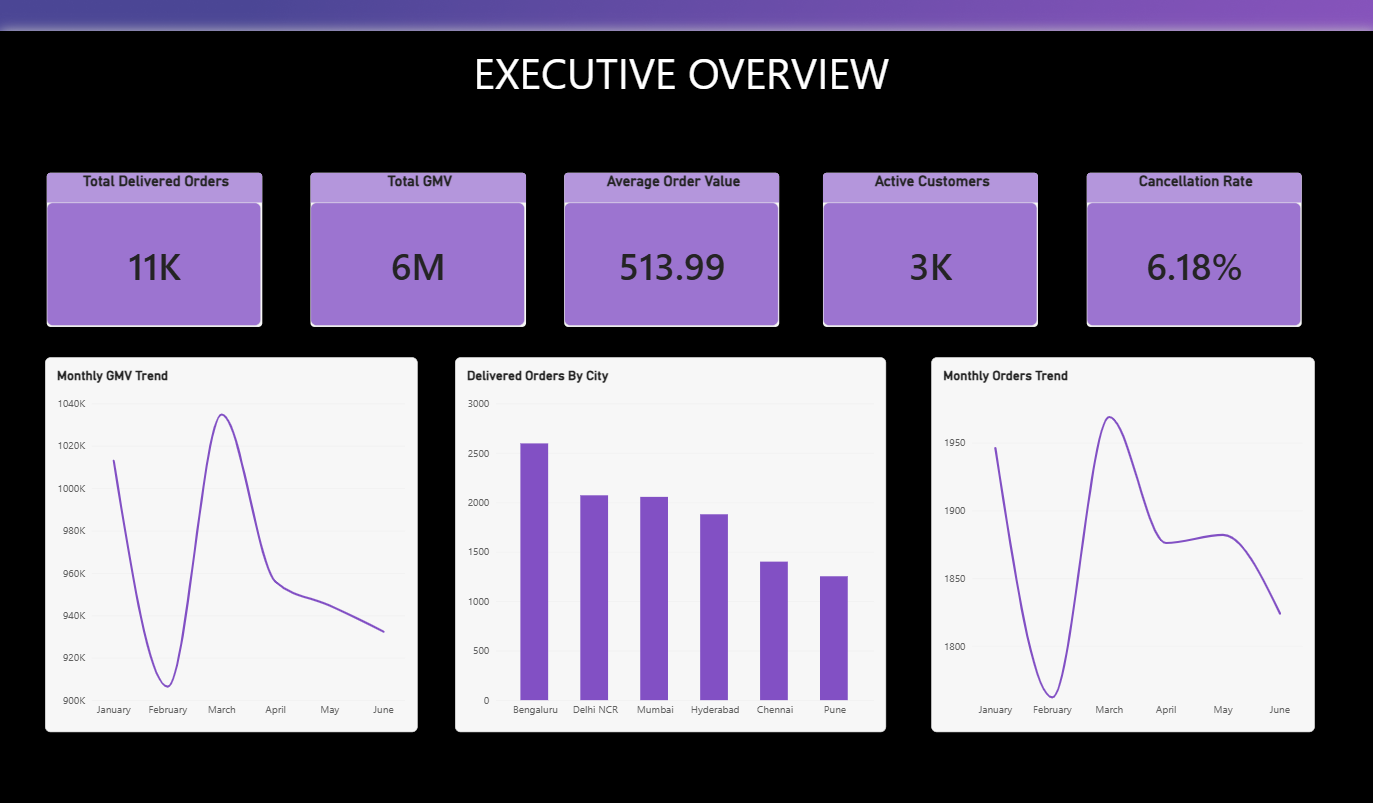

Layout of this report page (visuals, bound fields, positions):
{"tool":"powerbi","page":{"name":"Page 1","canvas":[1920,1080],"ordinal":0},"visuals":[{"type":"textbox","box":[638.4,17.4,624.4,90.7],"z":0},{"type":"cardVisual","title":"Total Delivered Orders","fields":{"Data":["orders.Delivered Orders"]},"box":[62.8,195.3,305.2,219.8],"z":1000},{"type":"cardVisual","title":"Total GMV","fields":{"Data":["orders.Delivered GMV"]},"box":[430.8,195.3,305.2,219.8],"z":2000},{"type":"cardVisual","title":"Average Order Value","fields":{"Data":["orders.AOV"]},"box":[784.9,195.3,305,220],"z":3000},{"type":"cardVisual","title":"Active Customers","fields":{"Data":["orders.Delivered Customers"]},"box":[1145.9,195.3,305,220],"z":4000},{"type":"cardVisual","title":"Cancellation Rate","fields":{"Data":["monthly_kpis.Cancellation Rate"]},"box":[1514,195.3,305,220],"z":5000},{"type":"lineChart","title":"Monthly GMV Trend","fields":{"Category":["orders.month.Variation.Date Hierarchy.Month"],"Y":["orders.Delivered GMV"]},"box":[62.8,455.2,519.8,523.3],"z":6000},{"type":"clusteredColumnChart","title":"Delivered Orders By City","fields":{"Category":["orders.city"],"Y":["orders.Delivered Orders"]},"box":[634.9,455.2,601.7,523.3],"z":7000},{"type":"lineChart","title":"Monthly  Orders Trend","fields":{"Category":["orders.month.Variation.Date Hierarchy.Month"],"Y":["orders.Delivered Orders"]},"box":[1299.4,455.2,535.5,523.3],"z":8000}]}

Visuals, with their boxes in screenshot pixels (x1, y1, x2, y2):
textbox: detection(454, 44, 894, 108)
"Total Delivered Orders" cardVisual: detection(48, 170, 263, 325)
"Total GMV" cardVisual: detection(307, 170, 523, 325)
"Average Order Value" cardVisual: detection(557, 170, 772, 325)
"Active Customers" cardVisual: detection(812, 170, 1027, 325)
"Cancellation Rate" cardVisual: detection(1071, 170, 1286, 325)
"Monthly GMV Trend" lineChart: detection(48, 353, 414, 722)
"Delivered Orders By City" clusteredColumnChart: detection(451, 353, 876, 722)
"Monthly  Orders Trend" lineChart: detection(920, 353, 1298, 722)
